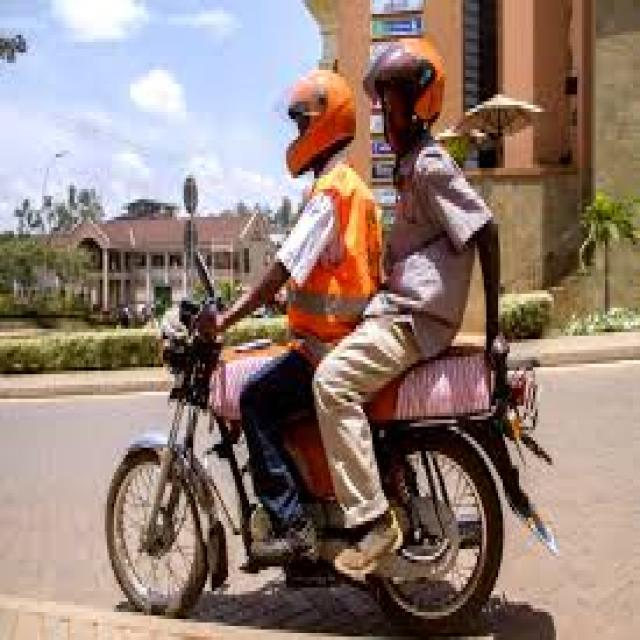bodaboda: (24, 155, 568, 640)
